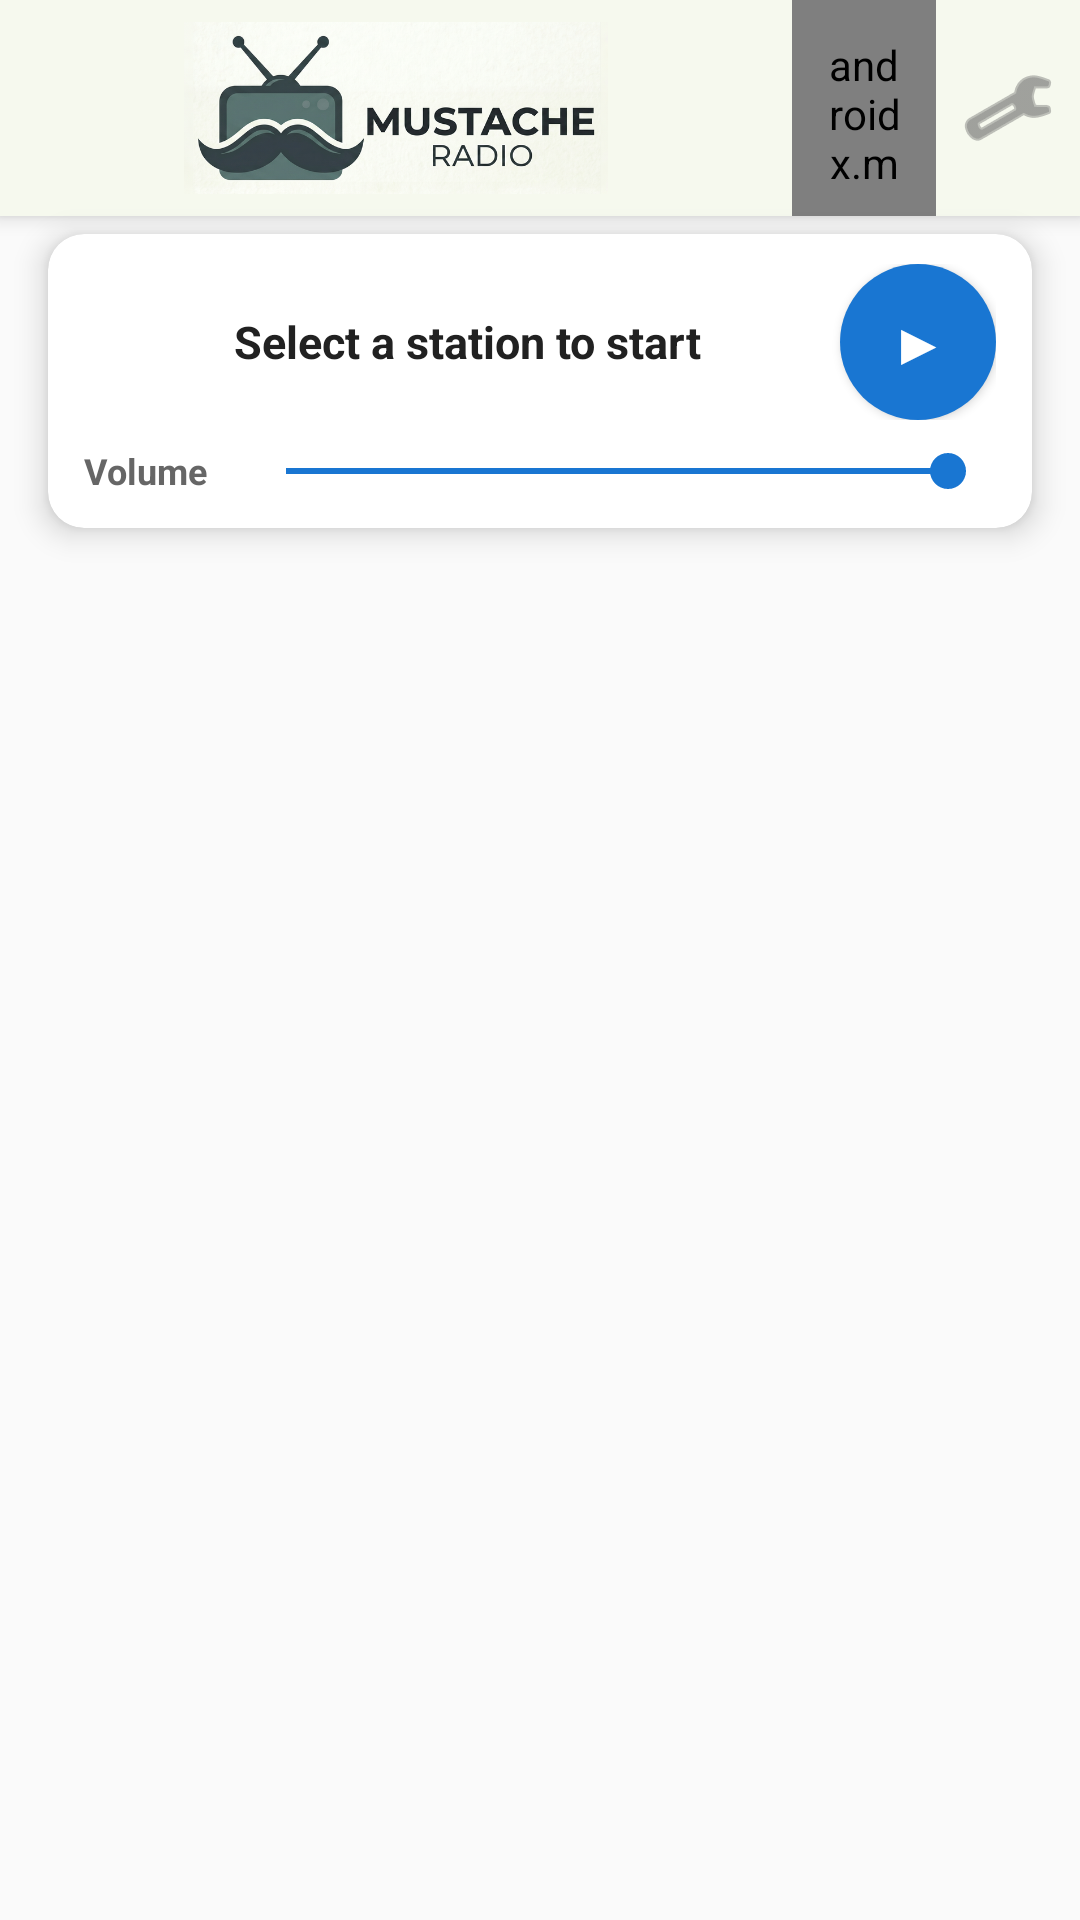

Icon click points for this 1080x1920 phone screenshot, format (x,y):
Settings: (1008,108)
